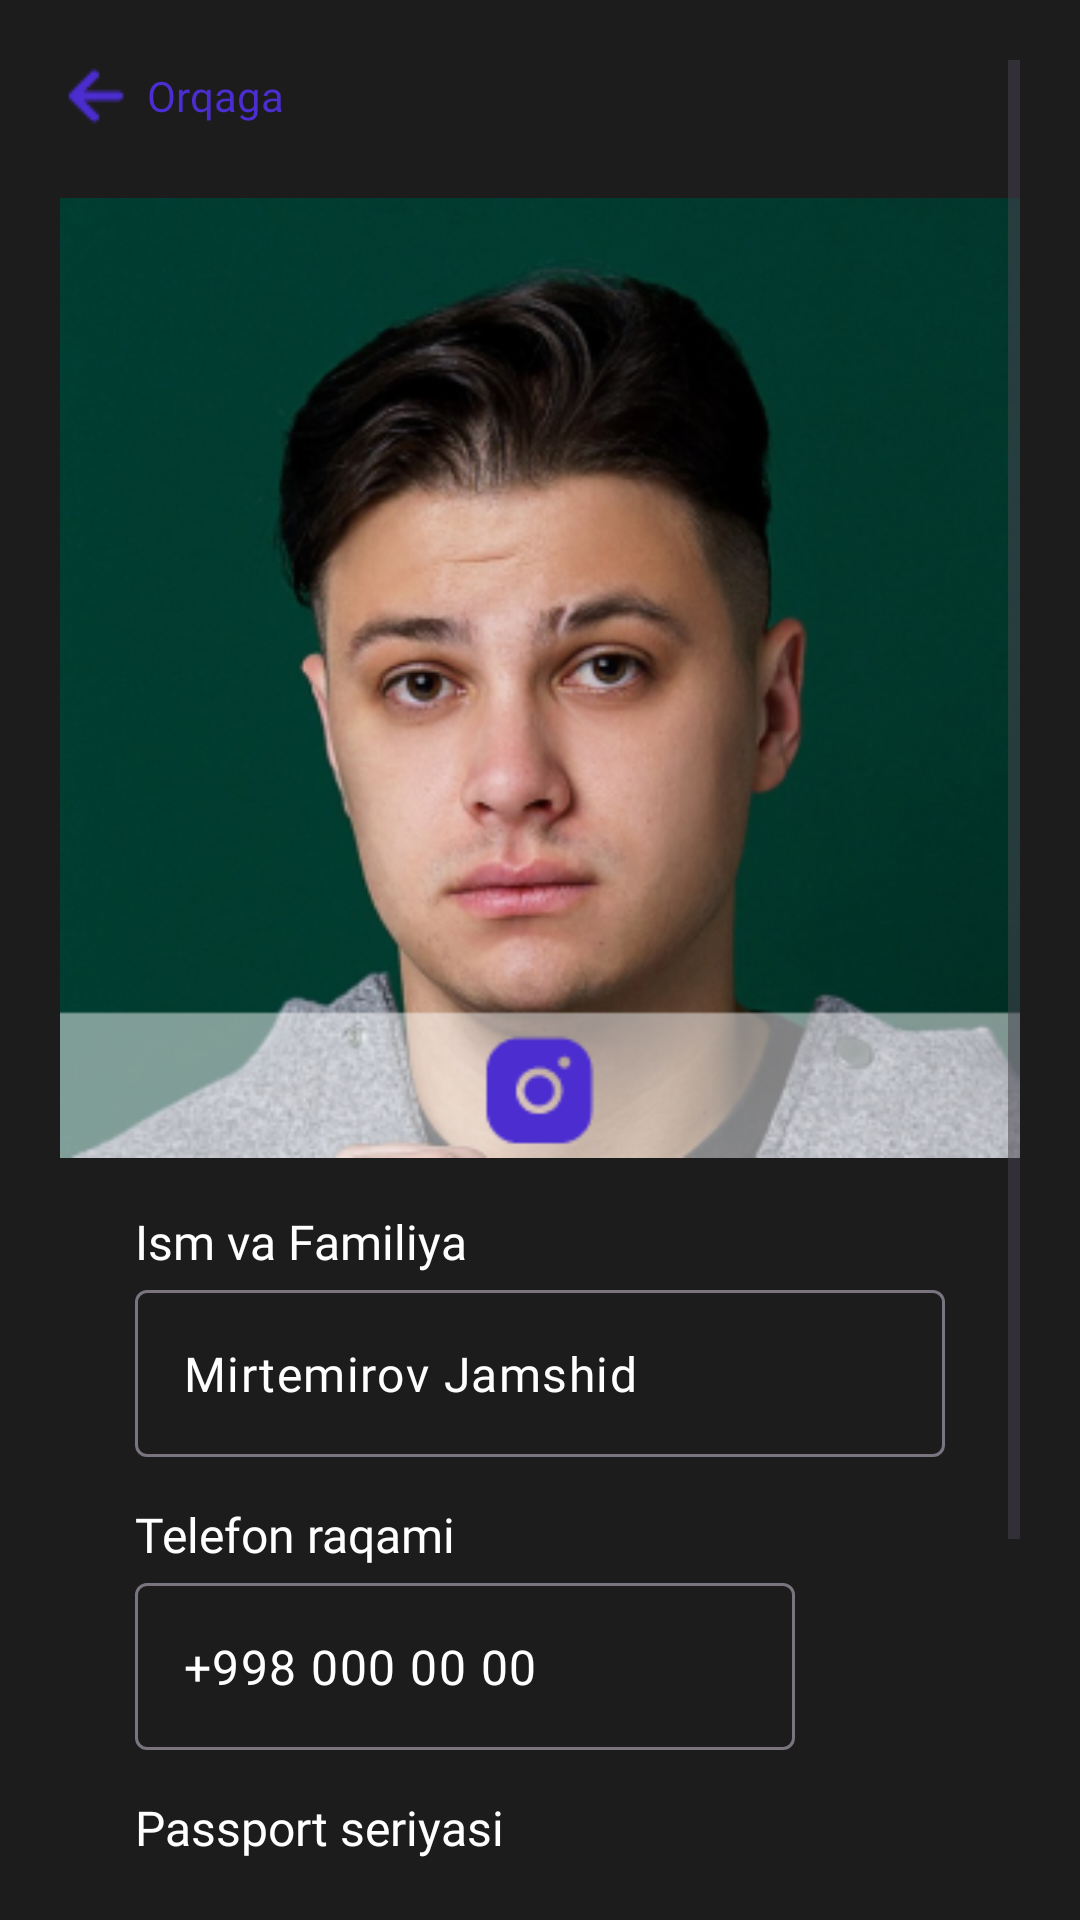

Point at icon controls on the screen. Image size 1080px×1920px, points as [x,y].
arrow left: [96,96]
